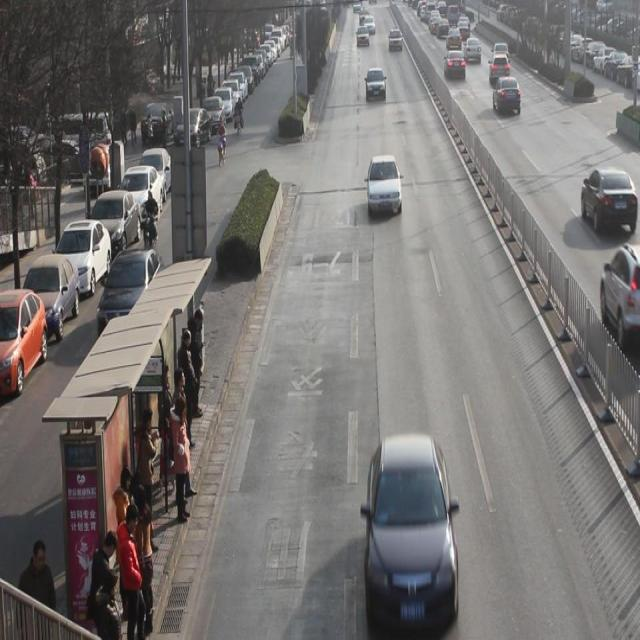car: (367, 433, 459, 617), (98, 248, 164, 344), (581, 166, 640, 235), (601, 245, 634, 338), (368, 155, 402, 217), (493, 75, 522, 117), (444, 48, 466, 82), (366, 67, 386, 104), (489, 54, 511, 82), (464, 36, 482, 66), (389, 26, 403, 53), (446, 24, 462, 47), (357, 24, 369, 46), (363, 15, 375, 34), (491, 41, 508, 54)
